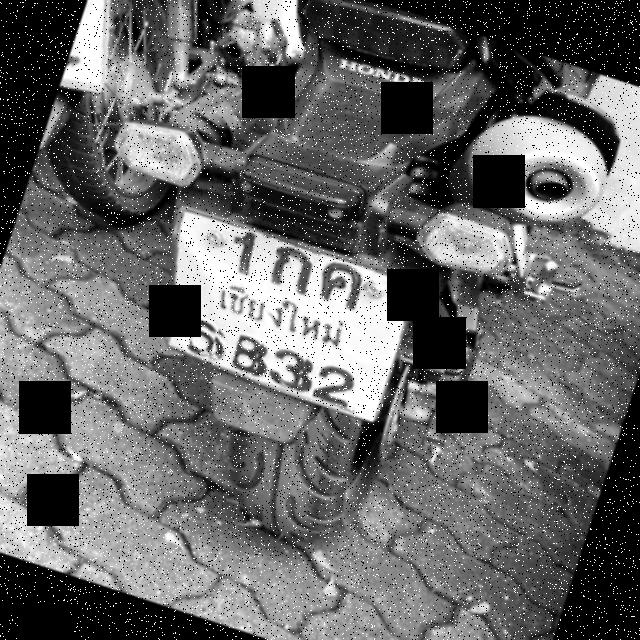letters: (256, 233, 322, 296), (313, 259, 369, 313), (312, 363, 368, 412), (184, 310, 223, 368), (264, 344, 308, 395), (222, 226, 264, 274), (229, 326, 266, 376)
license-plate: (163, 205, 418, 422), (65, 0, 108, 93)
province: (202, 273, 356, 357)
